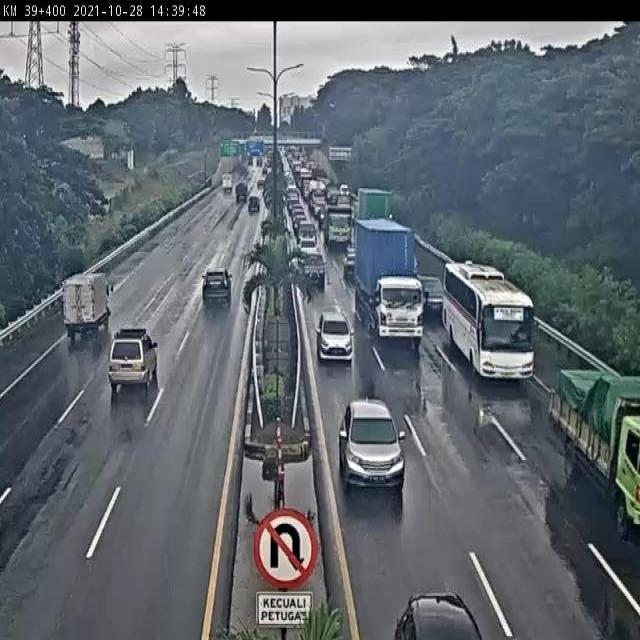Bus: (444, 258, 537, 378)
Car: (330, 393, 403, 498), (390, 582, 482, 640), (106, 332, 168, 398), (315, 309, 353, 364), (201, 268, 232, 312), (416, 274, 446, 317), (298, 248, 325, 290), (235, 182, 248, 202), (248, 195, 260, 214)
Truck: (552, 370, 640, 542), (354, 225, 424, 354), (58, 264, 116, 349), (358, 185, 391, 228), (326, 209, 352, 250), (222, 173, 232, 194)
